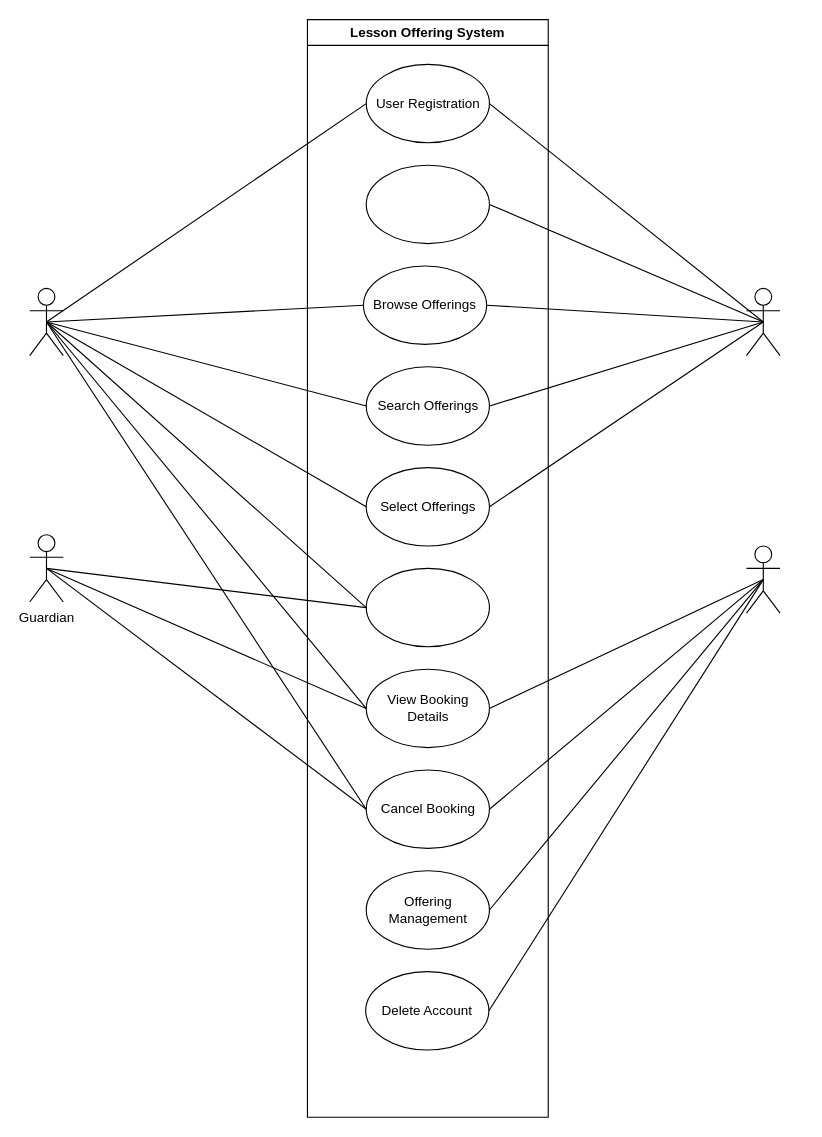
Some shapes in this 822 by 1137 pixel diagram are drawn without their labels. The centre of each missing label's shape, as x and y in pixels:
Administrator: pixel 762 579
Availability Registration: pixel 427 204
Client: pixel 46 321
Instructor: pixel 762 321
Make Booking: pixel 427 607
